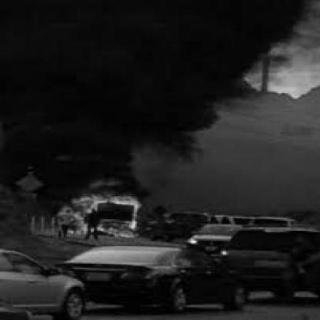Fire: (34, 167, 168, 245)
Smoke: (3, 2, 239, 156)
